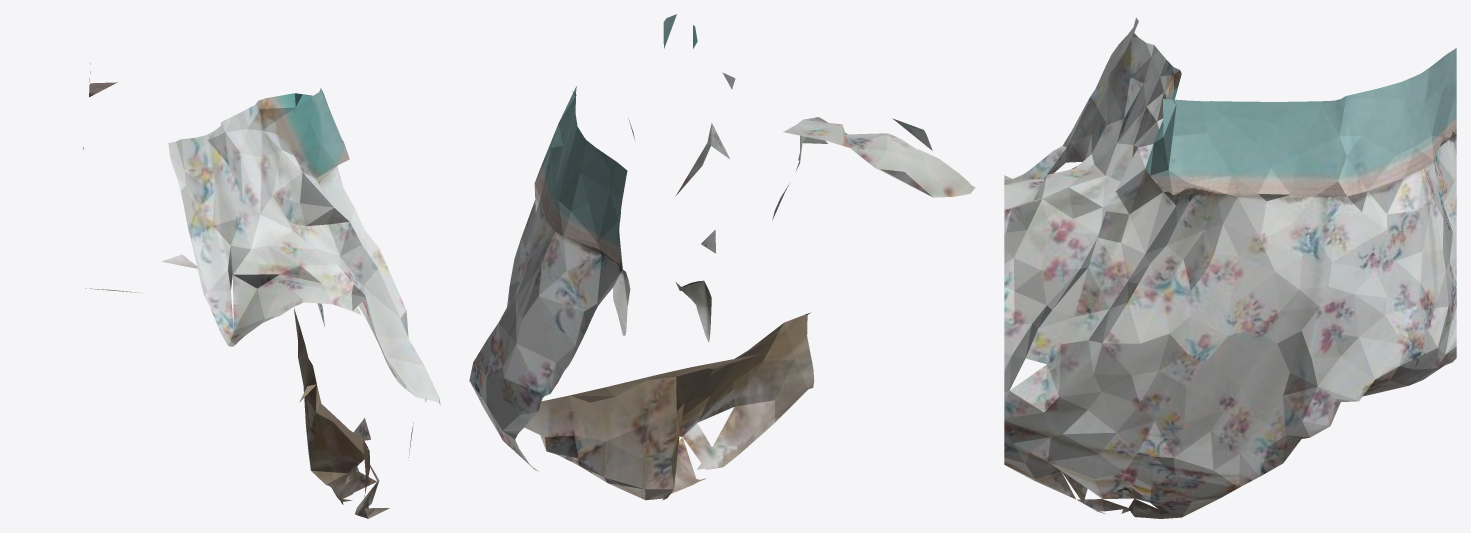
3 views of the same model, side by side, from view 1: azimuth 30°, elevation 25°; view 2: azimuth 150°, elevation 25°; view 3: azimuth 270°, elevation 25° (orthographic). The views are drawn at different scales.
Size of the model in its own units: 213 by 343 by 343.
Materials: 1 (1 with a texture image).
